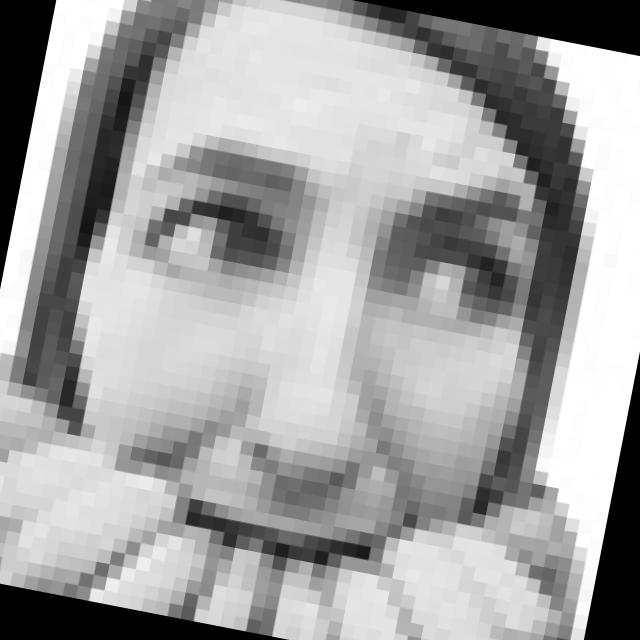fear: (69, 115, 546, 640)
